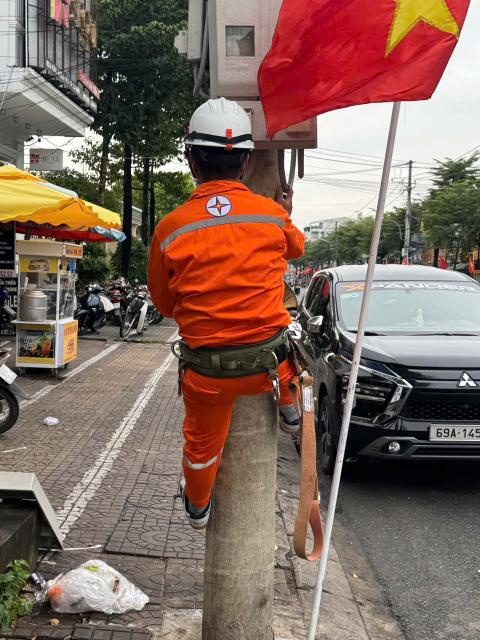harness: (152, 324, 324, 375)
helmet: (168, 87, 269, 159)
shoes: (171, 480, 228, 531), (267, 377, 313, 439)
